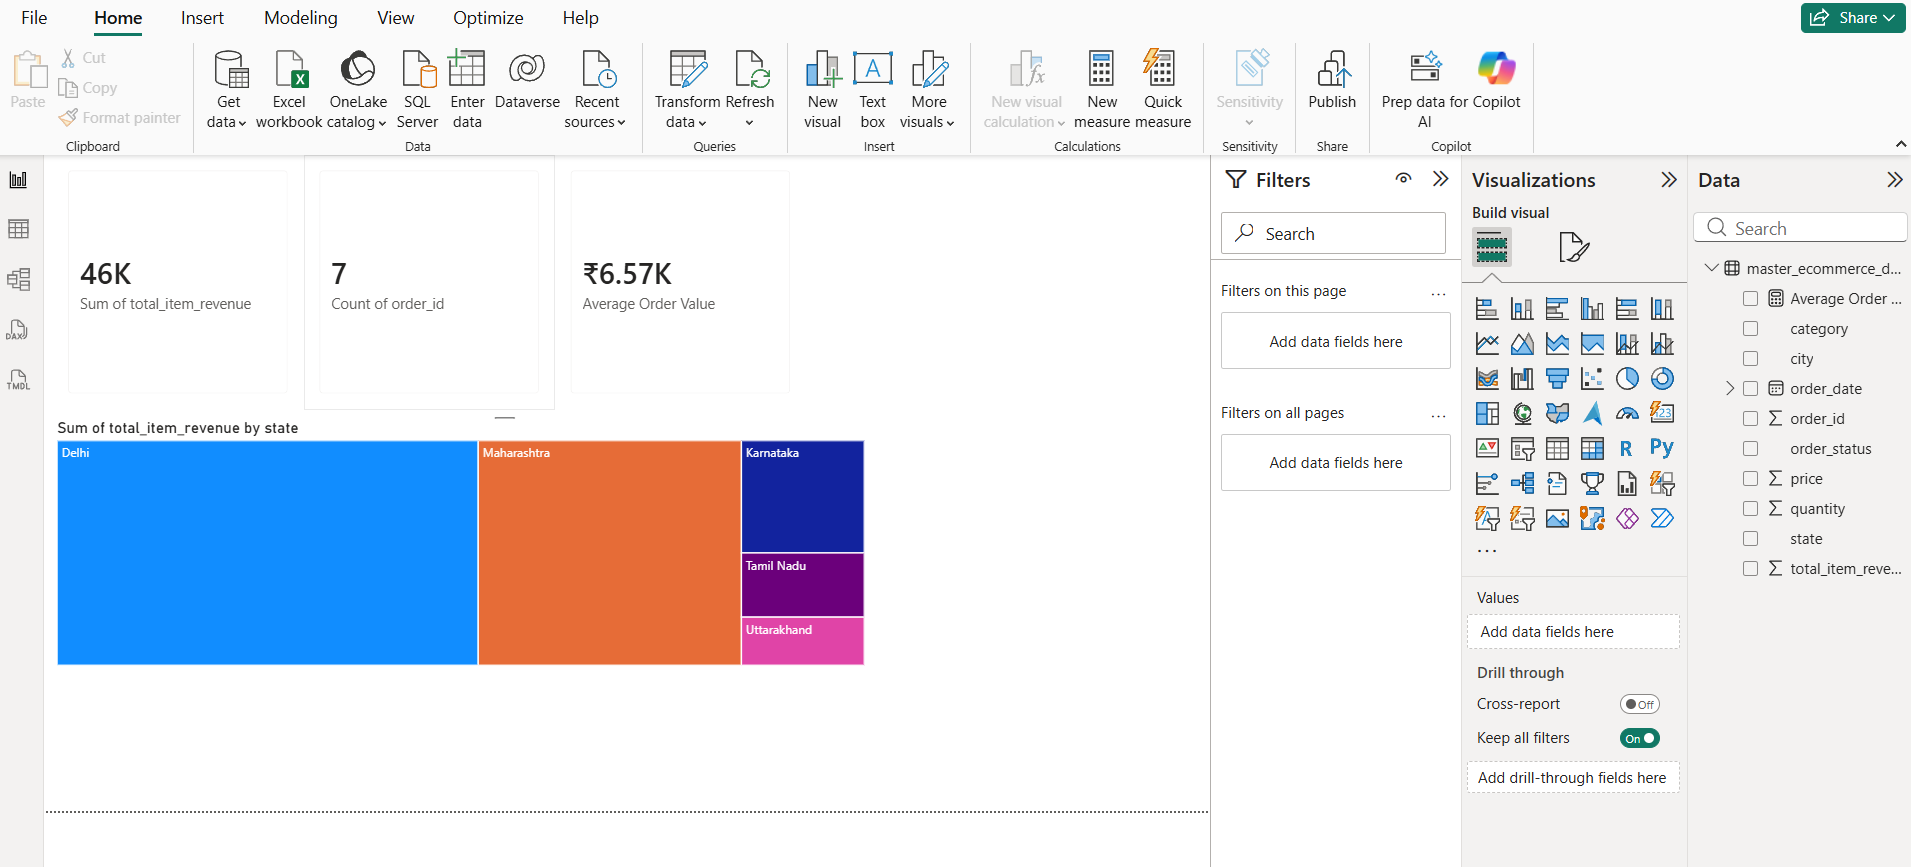

The dashboard page shown, as its layout file describes it:
{"tool":"powerbi","page":{"name":"Page 1","canvas":[1280,720],"ordinal":0},"visuals":[{"type":"cardVisual","fields":{"Data":["Sum(master_ecommerce_data.total_item_revenue)"]},"box":[9.6,0,275.8,279.9],"z":0},{"type":"cardVisual","fields":{"Data":["Count(master_ecommerce_data.order_id)"]},"box":[285.4,0,275.8,279.9],"z":1},{"type":"cardVisual","fields":{"Data":["master_ecommerce_data.Average Order Value"]},"box":[561.2,0,275.8,279.9],"z":2},{"type":"treemap","fields":{"Group":["master_ecommerce_data.state"],"Values":["Sum(master_ecommerce_data.total_item_revenue)"]},"box":[9.6,289.5,896.1,275.8],"z":3}]}

Visuals, with their boxes on the page's 1280x720 design canvas (x1, y1, x2, y2). These are canvas units, not pixel positions in the 1911x867 screenshot, which may show the page scaled, cropped or inside an application window:
cardVisual - Sum(master_ecommerce_data.total_item_revenue): rect(10, 0, 285, 280)
cardVisual - Count(master_ecommerce_data.order_id): rect(285, 0, 561, 280)
cardVisual - master_ecommerce_data.Average Order Value: rect(561, 0, 837, 280)
treemap - master_ecommerce_data.state x Sum(master_ecommerce_data.total_item_revenue): rect(10, 290, 906, 565)
